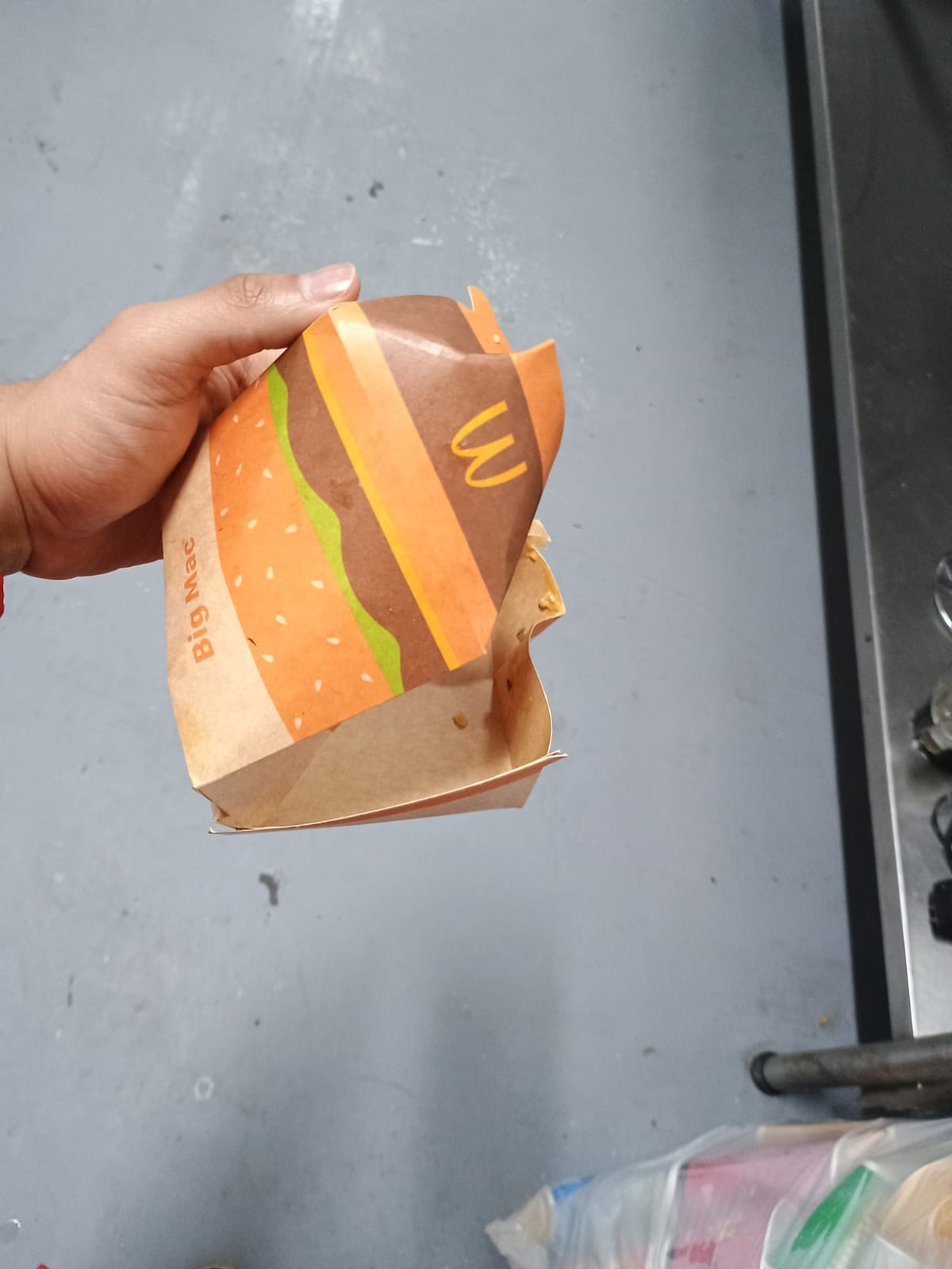Carton: (159, 288, 570, 834)
